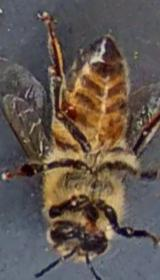varroa_mite: (56, 99, 79, 122)
